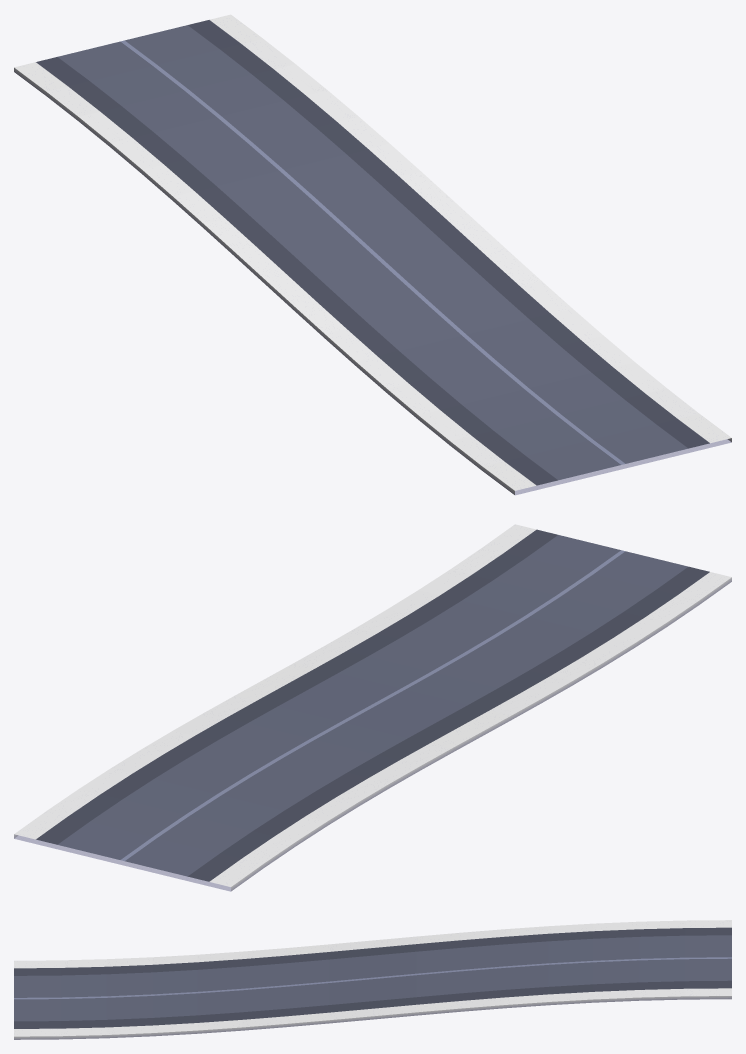
Rendered from road-Straight-Flat-Flat-Up1-Center-Size4.glb.
The picture shows the model from 3 angles, top to bottom: view 1: azimuth 30°, elevation 25°; view 2: azimuth 150°, elevation 25°; view 3: azimuth 270°, elevation 25°; orthographic projection. The views are drawn at different scales.
Parts seen in each view (by area): view 1: road-Straight-Flat-Flat-Up1-Center-Size4; view 2: road-Straight-Flat-Flat-Up1-Center-Size4; view 3: road-Straight-Flat-Flat-Up1-Center-Size4.
Boxes of the visible parts, box(x1,y1,x2,y2) form: road-Straight-Flat-Flat-Up1-Center-Size4: box(14, 14, 731, 495); road-Straight-Flat-Flat-Up1-Center-Size4: box(14, 524, 731, 891); road-Straight-Flat-Flat-Up1-Center-Size4: box(14, 920, 731, 1039).
Size of the model in its own units: 1 by 0.27 by 4.
1 material, 1 textured.
